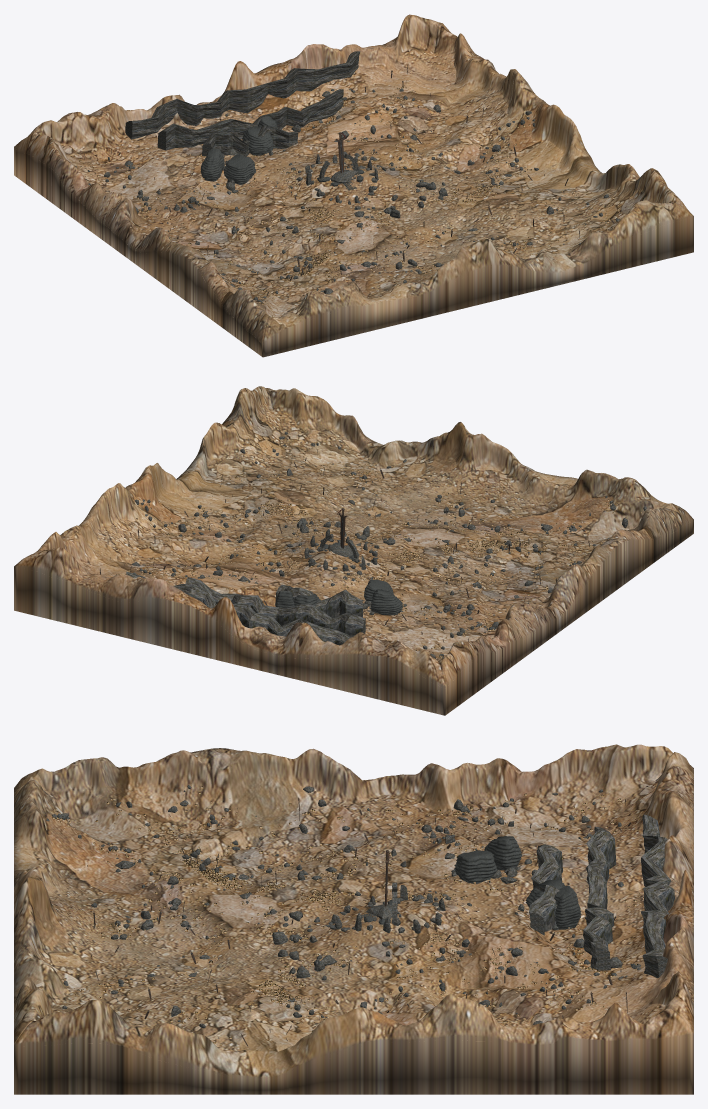
Rendered from world007.fbx.
3 views of the same model, one above another, from view 1: azimuth 30°, elevation 25°; view 2: azimuth 150°, elevation 25°; view 3: azimuth 270°, elevation 25° (orthographic). The views are drawn at different scales.
Parts seen in each view (by area): view 1: Solid_BoundaryTerrainSouth, Solid_BoundaryTerrainWest, Solid_BoundaryTerrainEast, Solid_BoundaryTerrainNorth, Art_DistantMesa.002, Terrain_4_4, Terrain_1_2, Terrain_4_1, Terrain_3_2, Terrain_2_2, Terrain_2_3, Terrain_1_3 (+30 smaller); view 2: Solid_BoundaryTerrainNorth, Solid_BoundaryTerrainWest, Solid_BoundaryTerrainSouth, Solid_BoundaryTerrainEast, Terrain_2_0, Terrain_4_2, Terrain_3_1, Terrain_4_1, Terrain_4_3, Terrain_1_1, Terrain_5_1, Terrain_1_3 (+28 smaller); view 3: Solid_BoundaryTerrainEast, Solid_BoundaryTerrainWest, Solid_BoundaryTerrainSouth, Solid_BoundaryTerrainNorth, Terrain_0_2, Terrain_3_3, Terrain_0_1, Terrain_2_1, Terrain_4_4, Terrain_4_2, Terrain_4_1, Terrain_3_1 (+36 smaller).
Part boxes in pixels (x1,y1,x2,y2): Solid_BoundaryTerrainSouth: (263, 200, 693, 357); Solid_BoundaryTerrainWest: (14, 131, 269, 357); Solid_BoundaryTerrainEast: (434, 23, 691, 213); Solid_BoundaryTerrainNorth: (28, 14, 442, 147); Art_DistantMesa.002: (125, 51, 360, 139); Terrain_4_4: (343, 92, 455, 145); Terrain_1_2: (212, 214, 322, 272); Terrain_4_1: (467, 191, 580, 243); Terrain_3_2: (354, 178, 466, 230); Terrain_2_2: (283, 192, 395, 252); Terrain_2_3: (242, 160, 353, 214); Terrain_1_3: (170, 184, 281, 238); Solid_BoundaryTerrainNorth: (14, 547, 444, 715); Solid_BoundaryTerrainWest: (438, 503, 693, 715); Solid_BoundaryTerrainSouth: (267, 388, 669, 527); Solid_BoundaryTerrainEast: (35, 386, 273, 563); Terrain_2_0: (436, 464, 529, 521); Terrain_4_2: (210, 488, 323, 536); Terrain_3_1: (324, 481, 435, 527); Terrain_4_1: (251, 460, 364, 509); Terrain_4_3: (169, 521, 279, 564); Terrain_1_1: (468, 522, 580, 570); Terrain_5_1: (205, 433, 292, 488); Terrain_1_3: (393, 573, 496, 620); Solid_BoundaryTerrainEast: (14, 993, 693, 1094); Solid_BoundaryTerrainWest: (33, 744, 672, 811); Solid_BoundaryTerrainSouth: (14, 772, 74, 1044); Solid_BoundaryTerrainNorth: (636, 752, 693, 1033); Terrain_0_2: (239, 777, 355, 847); Terrain_3_3: (352, 908, 468, 977); Terrain_0_1: (126, 786, 241, 844); Terrain_2_1: (126, 886, 242, 941); Terrain_4_4: (466, 964, 582, 1022); Terrain_4_2: (239, 972, 355, 1029); Terrain_4_1: (126, 979, 242, 1025); Terrain_3_1: (125, 932, 241, 981).
Size of the model in its own units: 600 by 97.03 by 600.
